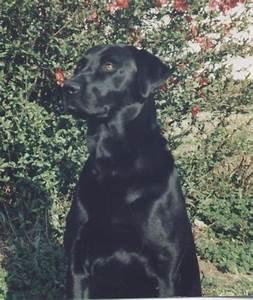dog: (55, 42, 202, 299)
